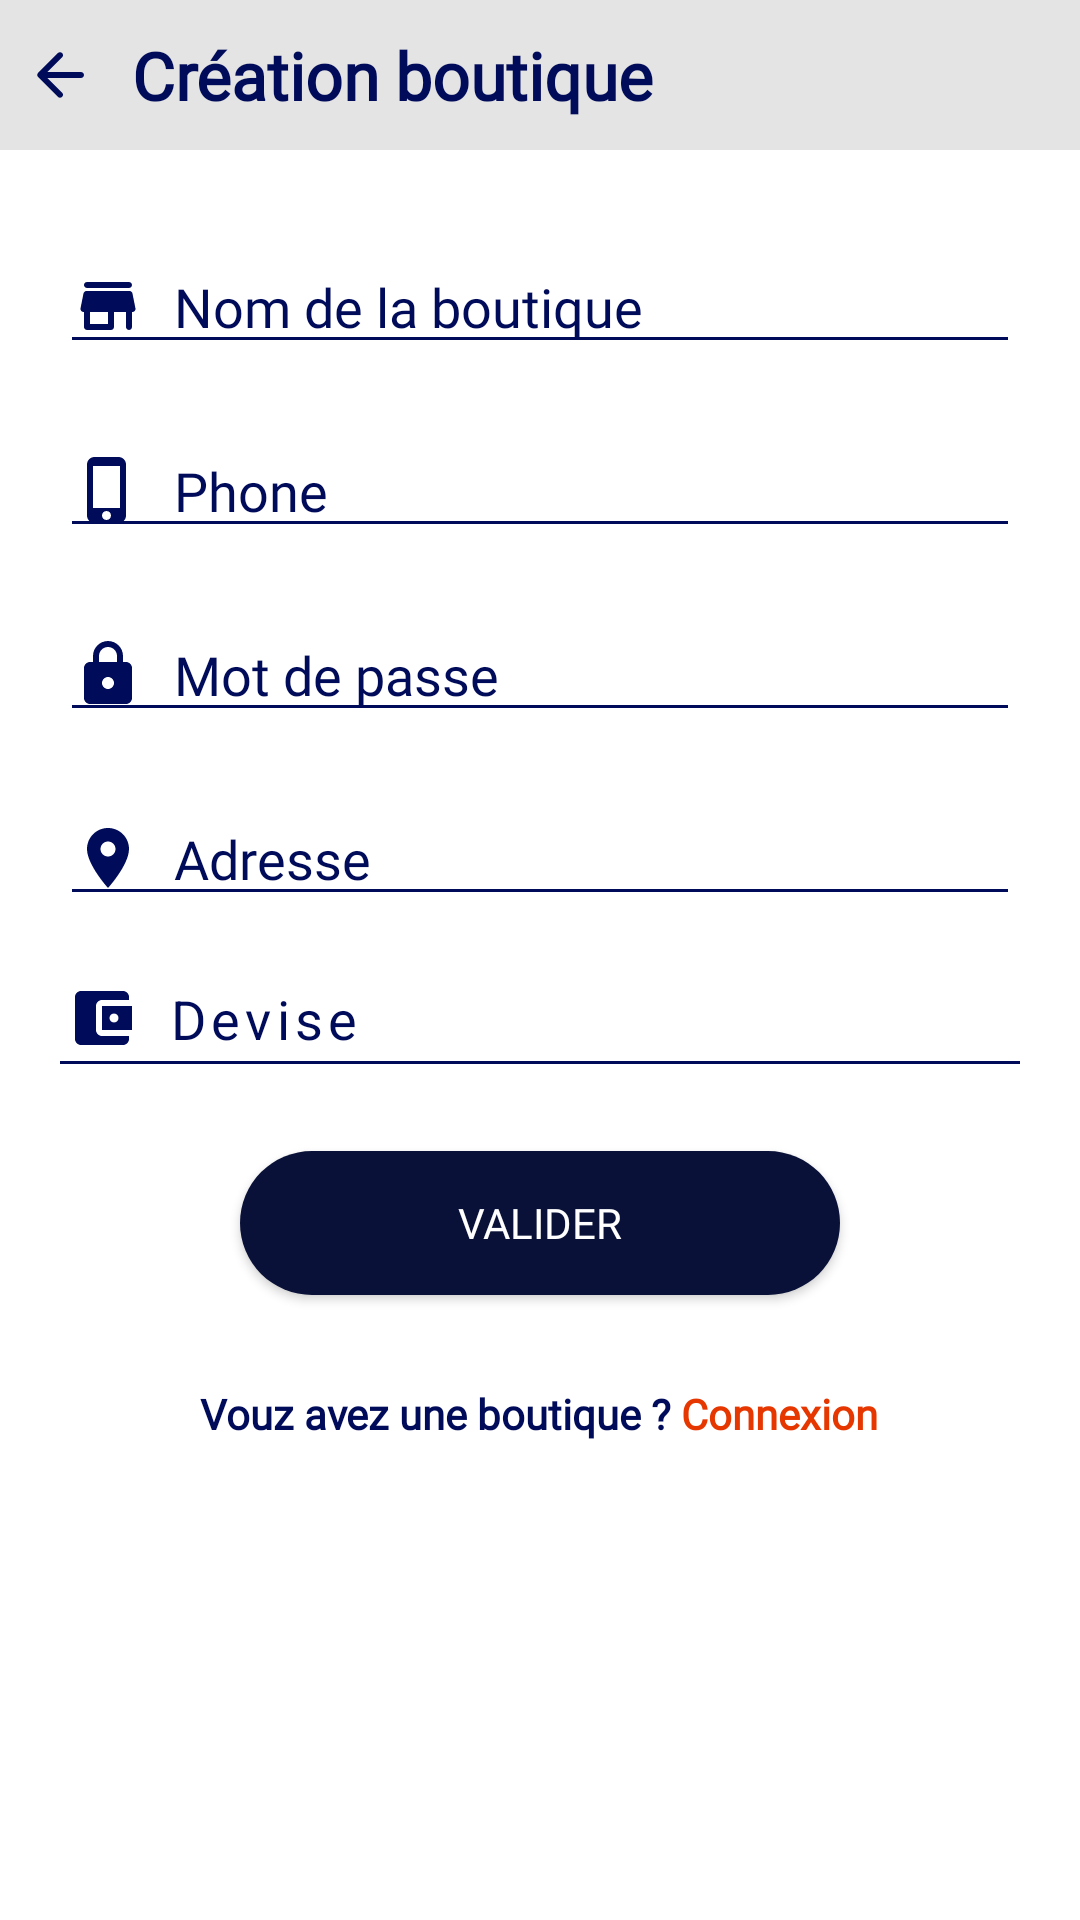

Named icons in this screenshot (1080*1920) and their centers, point (x, y):
back: point (60, 75)
